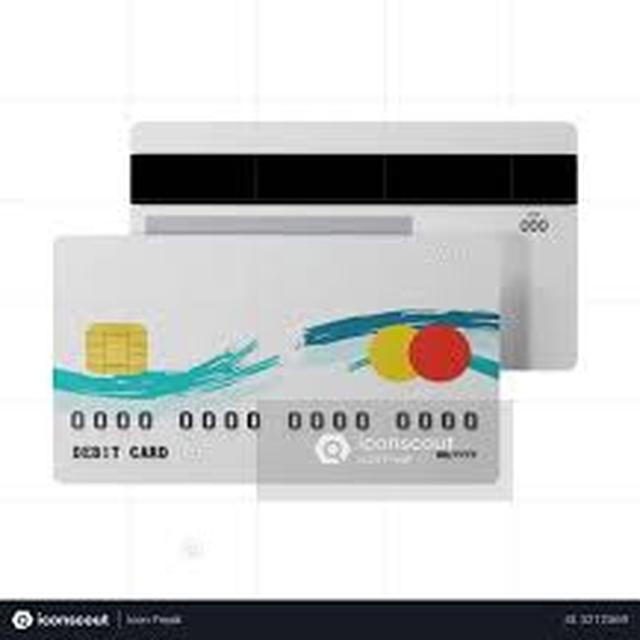card: (0, 219, 557, 506), (81, 110, 597, 400)
